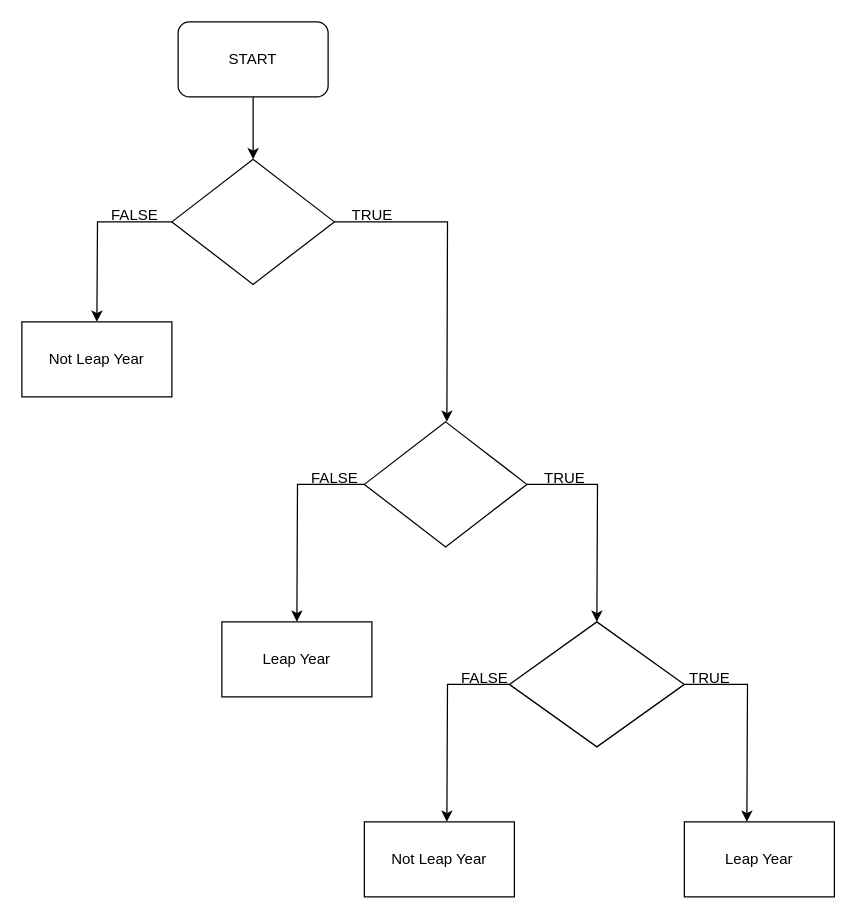
Some shapes in this 856 by 919 pixel diagram are drawn without their labels. The shapes that lost their labels are listed below. From the top down, each one's centre as x and y in pixels, then its label:
At (x=252, y=221): "year % 4 == 0".
At (x=445, y=484): "year % 100 == 0".
At (x=596, y=684): "year % 400 == 0".
